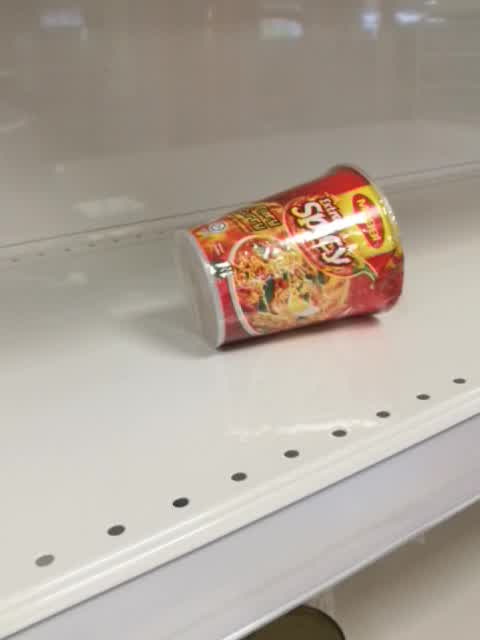maggi: (173, 162, 405, 353)
